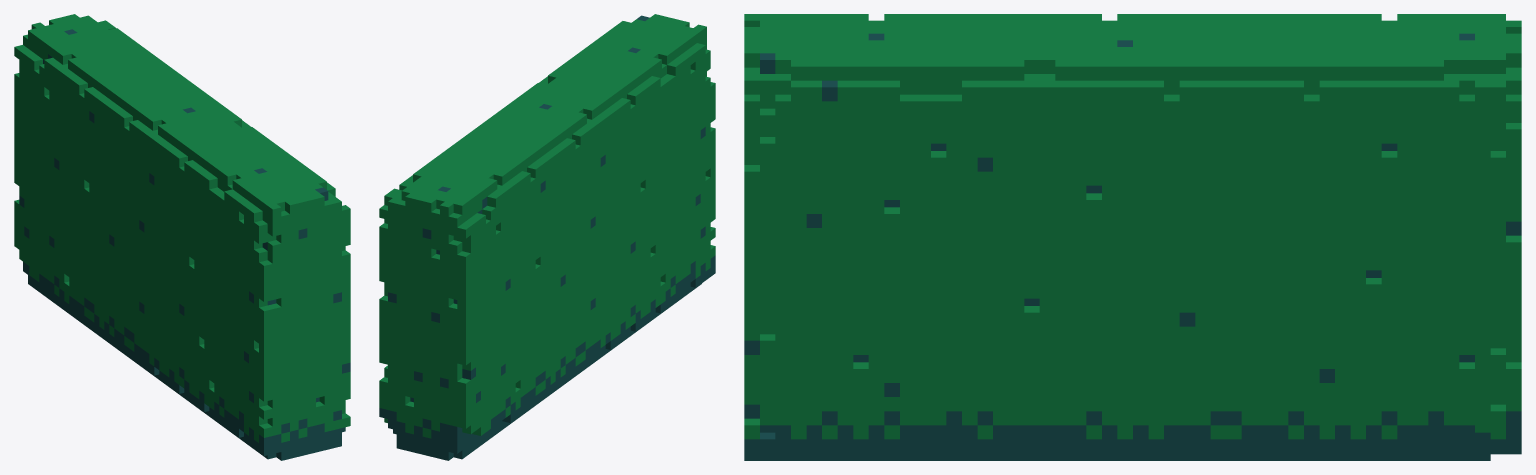
File: Maze3.fbx
3 renders of one model, left to right at view 1: azimuth 30°, elevation 25°; view 2: azimuth 150°, elevation 25°; view 3: azimuth 270°, elevation 25°, orthographic. The views are drawn at different scales.
Visible parts, largest first — view 1: Maze3; view 2: Maze3; view 3: Maze3.
Part boxes in pixels (box(x1,y1,x2,y2)): Maze3: box(14, 14, 350, 460); Maze3: box(379, 14, 715, 460); Maze3: box(744, 14, 1521, 460).
Bounding box in the file's own units: 100 × 280 × 500.
